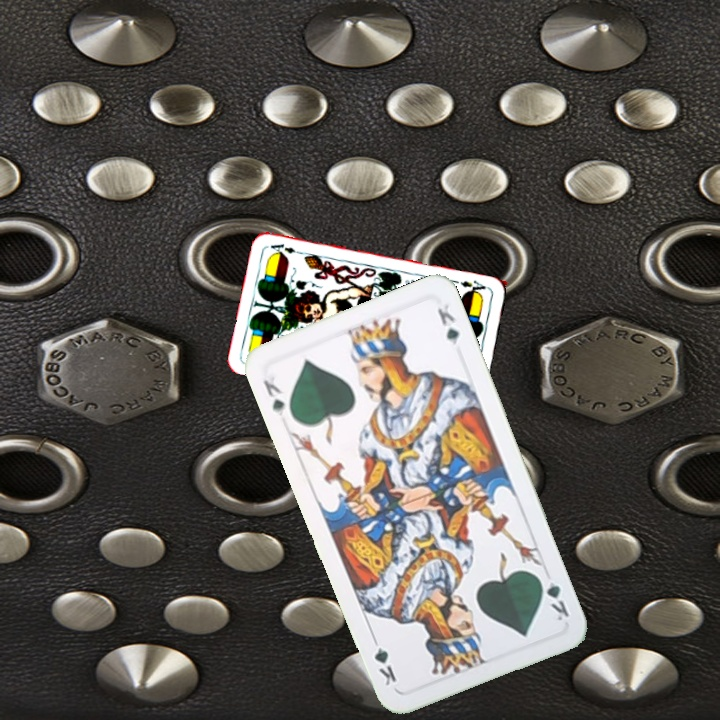EA: (456, 276, 491, 297)
GK: (534, 571, 572, 624), (259, 376, 288, 419)
